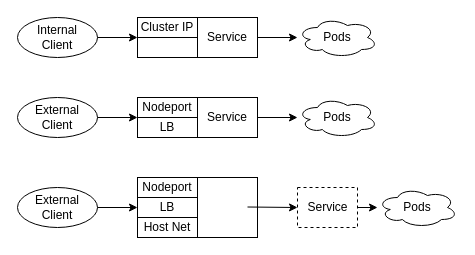
This 475x255 diagram has some shape labels left out. The shapes that lost their labels are listed below. From the top down, each one's box as (x1, y1, x2, y2) in pixels, then its label:
(136, 36, 198, 58): Headless
(196, 176, 258, 238): Ingress
